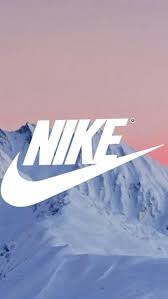nike: (1, 144, 164, 207)
